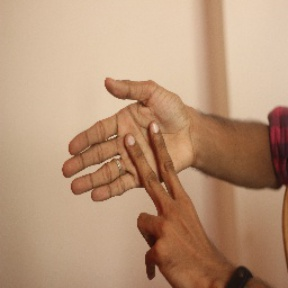N: (57, 72, 219, 270)
